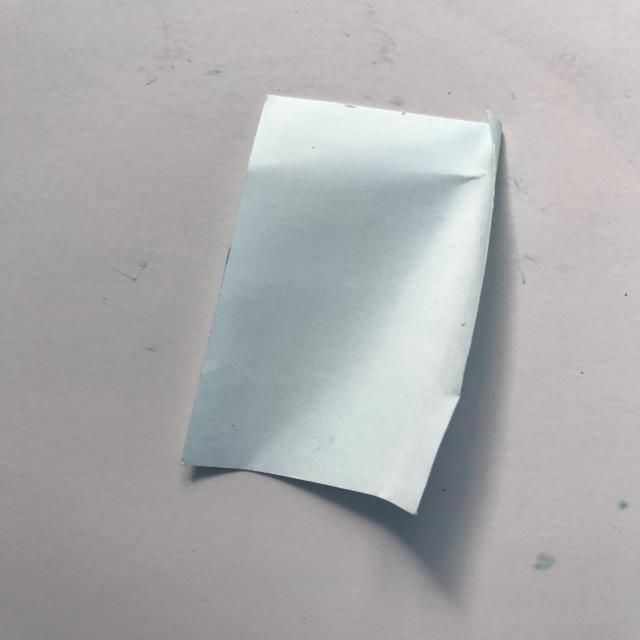paper: (144, 80, 559, 547)
